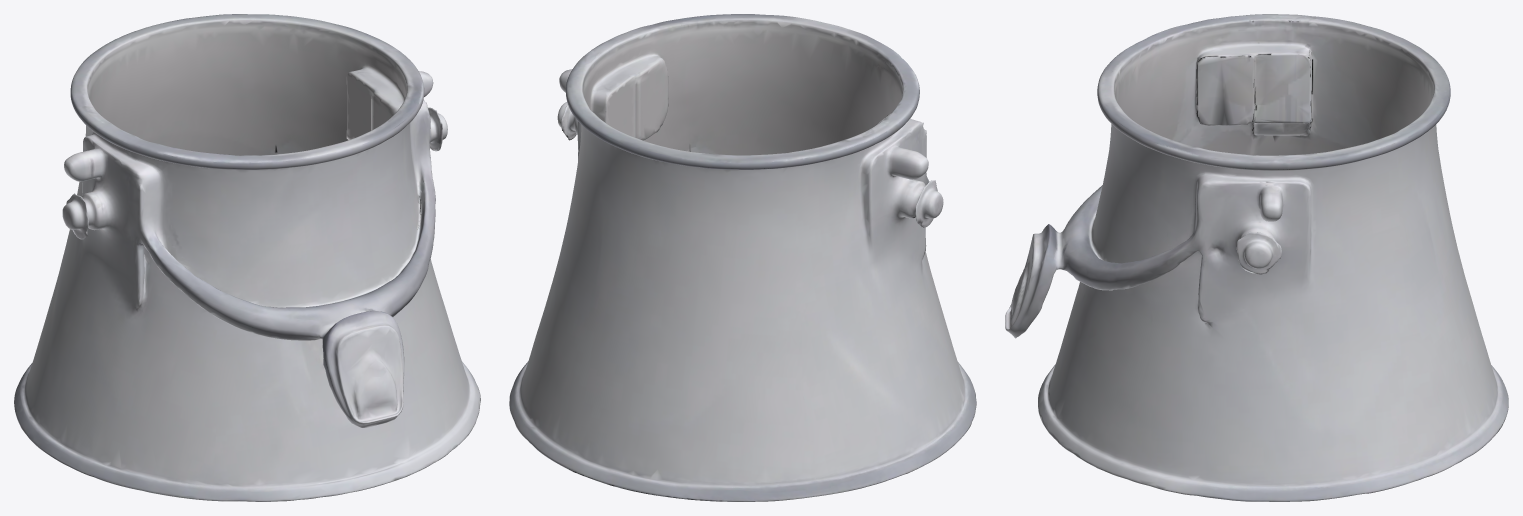
File: vet_equip_e_collar.glb
3 renders of one model, left to right at view 1: azimuth 30°, elevation 25°; view 2: azimuth 150°, elevation 25°; view 3: azimuth 270°, elevation 25°, orthographic.
Visible parts, largest first — view 1: model; view 2: model; view 3: model.
Boxes of the visible parts, x1,y1,x2,y2 form: model: (14,14,480,501); model: (509,14,976,501); model: (1005,14,1508,501).
Size of the model in its own units: 1.63 by 1.22 by 1.76.
Materials: 1 (1 with a texture image).
